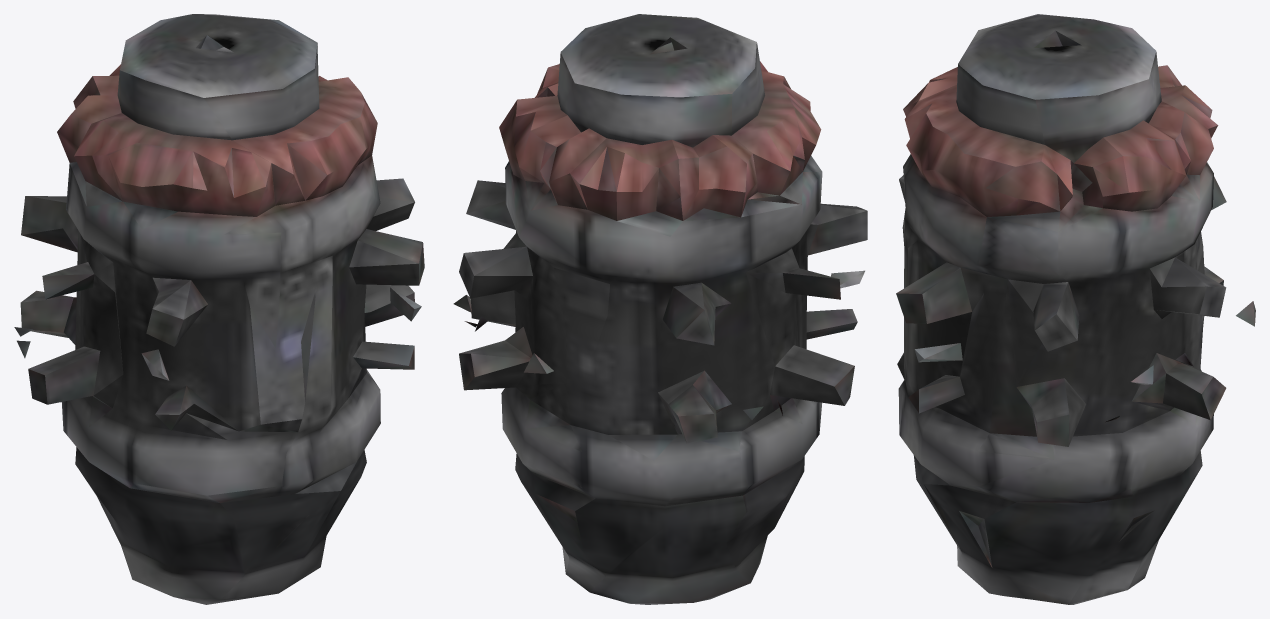
The picture shows the model from 3 angles, left to right: view 1: azimuth 30°, elevation 25°; view 2: azimuth 150°, elevation 25°; view 3: azimuth 270°, elevation 25°; orthographic projection.
Visible parts, largest first — view 1: body; view 2: body; view 3: body.
Part boxes in pixels (left/top/right/bottom): body: left=14, top=14, right=424, bottom=604; body: left=453, top=14, right=867, bottom=604; body: left=896, top=14, right=1255, bottom=604.
Size of the model in its own units: 0.1812 by 0.2492 by 0.1522.
Materials: 1 (1 with a texture image).
